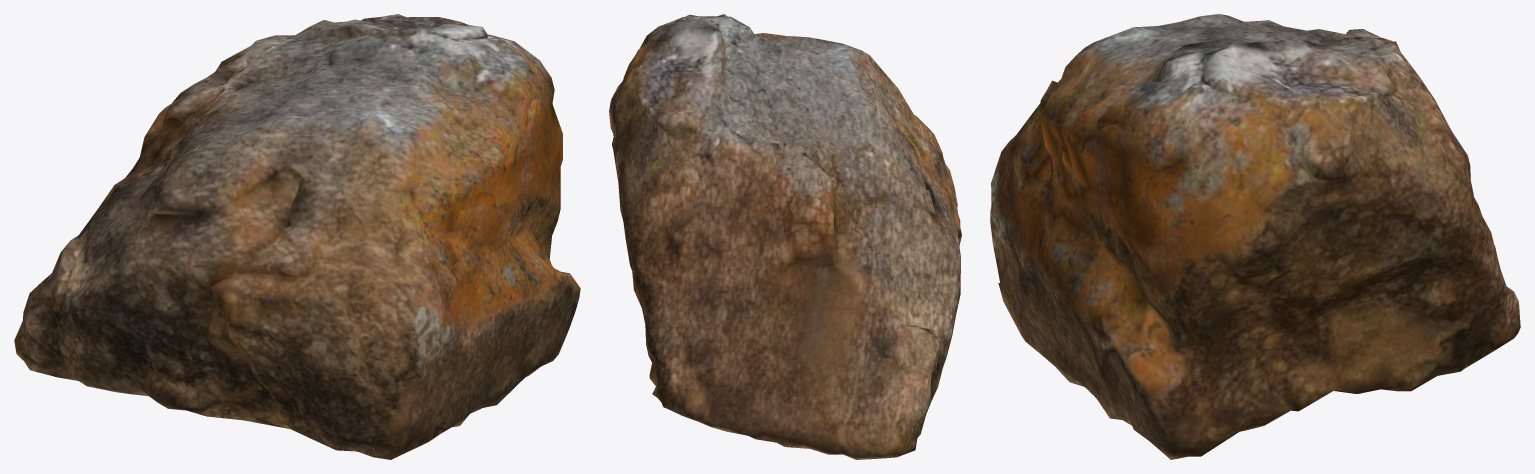
The model's file is namaqualand_boulder_04.glb.
The picture shows the model from 3 angles, left to right: view 1: azimuth 30°, elevation 25°; view 2: azimuth 150°, elevation 25°; view 3: azimuth 270°, elevation 25°; orthographic projection. The views are drawn at different scales.
Visible parts, largest first — view 1: boulder_04; view 2: boulder_04; view 3: boulder_04.
Part boxes in pixels (box(x1,y1,x2,y2)): boulder_04: box(14, 14, 580, 459); boulder_04: box(609, 14, 961, 459); boulder_04: box(990, 14, 1520, 459).
Bounding box in the file's own units: 2.52 × 1.9 × 2.48.
Materials: 1 (1 with a texture image).
